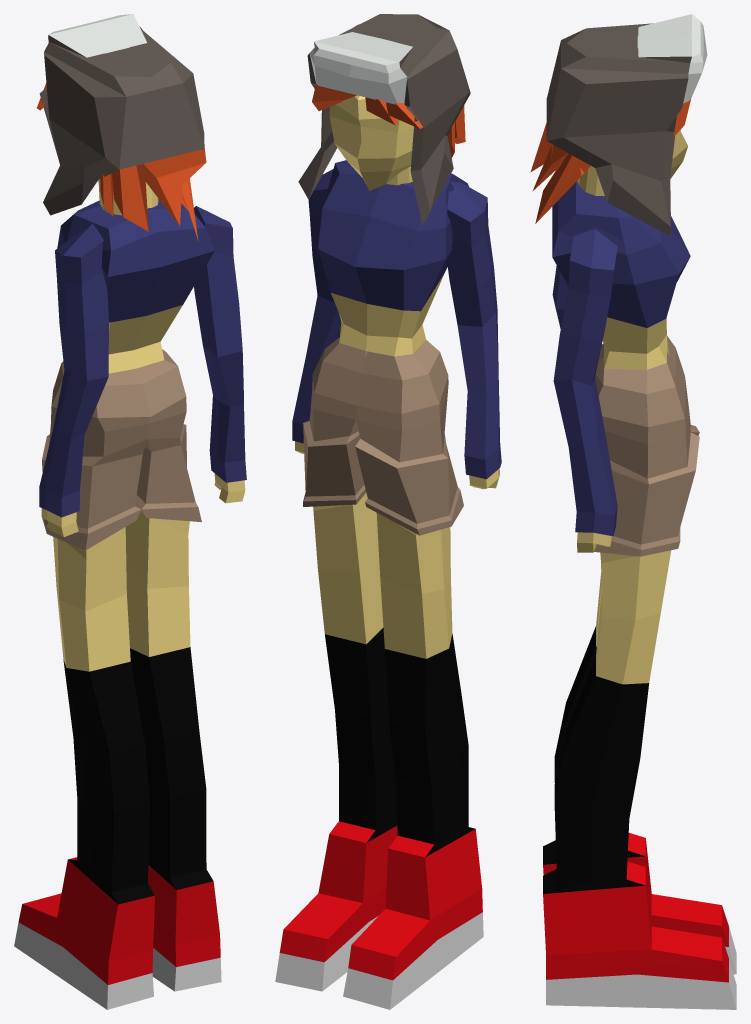
File: Lowpollygirl.fbx
3 views of the same model, side by side, from view 1: azimuth 30°, elevation 25°; view 2: azimuth 150°, elevation 25°; view 3: azimuth 270°, elevation 25° (orthographic). The views are drawn at different scales.
Parts seen in each view (by area): view 1: Cube, Cube.003, Cube.001, Cube.002; view 2: Cube, Cube.003, Cube.001, Sphere, Cube.002; view 3: Cube, Cube.003, Cube.002, Cube.001, Cylinder.001.
Boxes of the visible parts, left/top/right/bottom form: Cube: left=14, top=199, right=221, bottom=1009; Cube.003: left=37, top=14, right=206, bottom=241; Cube.001: left=39, top=223, right=108, bottom=536; Cube.002: left=194, top=206, right=246, bottom=503; Cube: left=275, top=160, right=483, bottom=1009; Cube.003: left=298, top=14, right=470, bottom=224; Cube.001: left=447, top=181, right=501, bottom=489; Sphere: left=329, top=95, right=413, bottom=190; Cube.002: left=292, top=169, right=341, bottom=453; Cube: left=543, top=181, right=736, bottom=1009; Cube.003: left=530, top=14, right=707, bottom=236; Cube.002: left=553, top=229, right=617, bottom=552; Cube.001: left=552, top=265, right=602, bottom=346; Cylinder.001: left=577, top=166, right=604, bottom=195.
Bounding box in the file's own units: 63.32 × 279 × 55.16.
